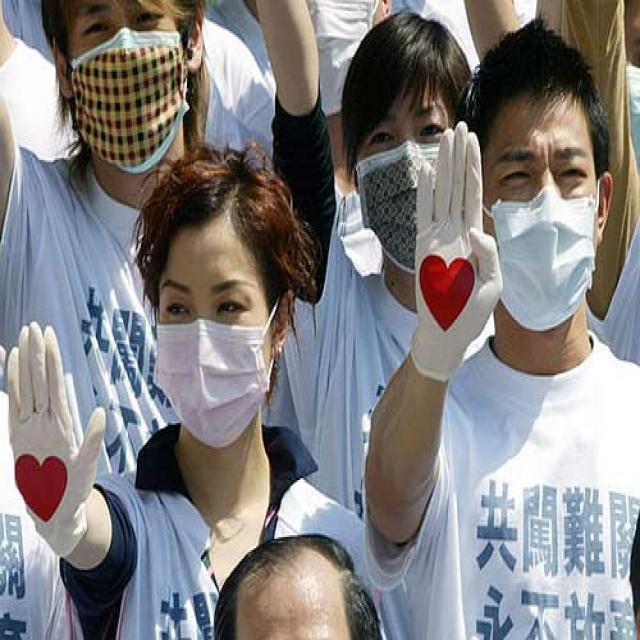mask: (150, 224, 275, 442), (477, 93, 601, 312), (358, 74, 466, 268), (71, 2, 180, 175)
